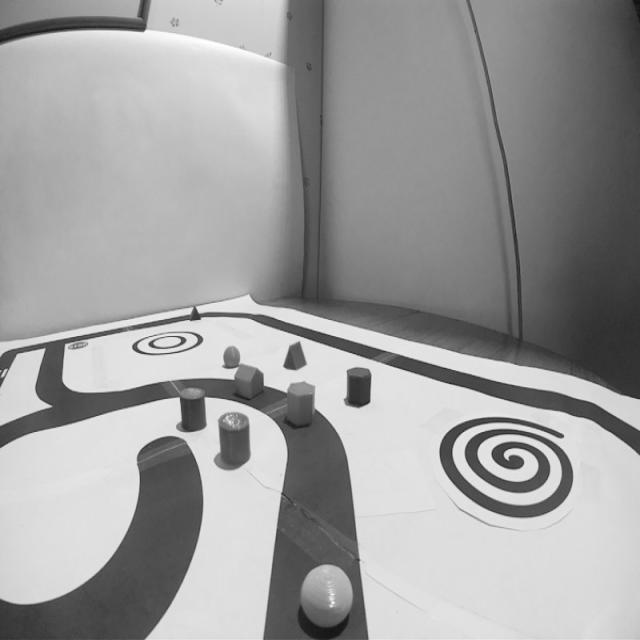ball: (300, 563, 354, 630), (222, 345, 240, 369)
cockade: (133, 330, 201, 356)
cylinder: (217, 411, 251, 467), (179, 387, 206, 431)
hexagon: (286, 381, 316, 428), (234, 364, 264, 400), (346, 367, 372, 406)
lineStraight: (265, 472, 368, 640)
nest: (437, 415, 577, 519)
triangle: (284, 341, 307, 370), (189, 306, 201, 321)
